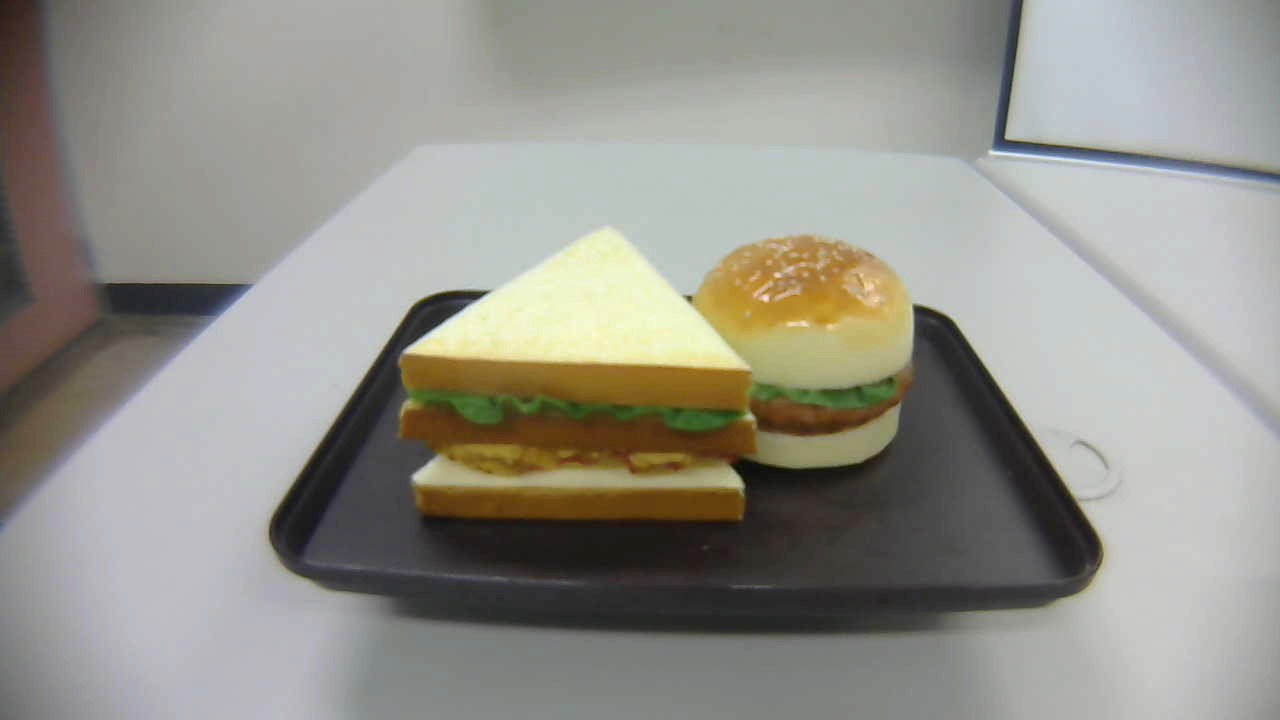hamburger: (688, 233, 915, 470)
sandwich: (396, 226, 755, 523)
